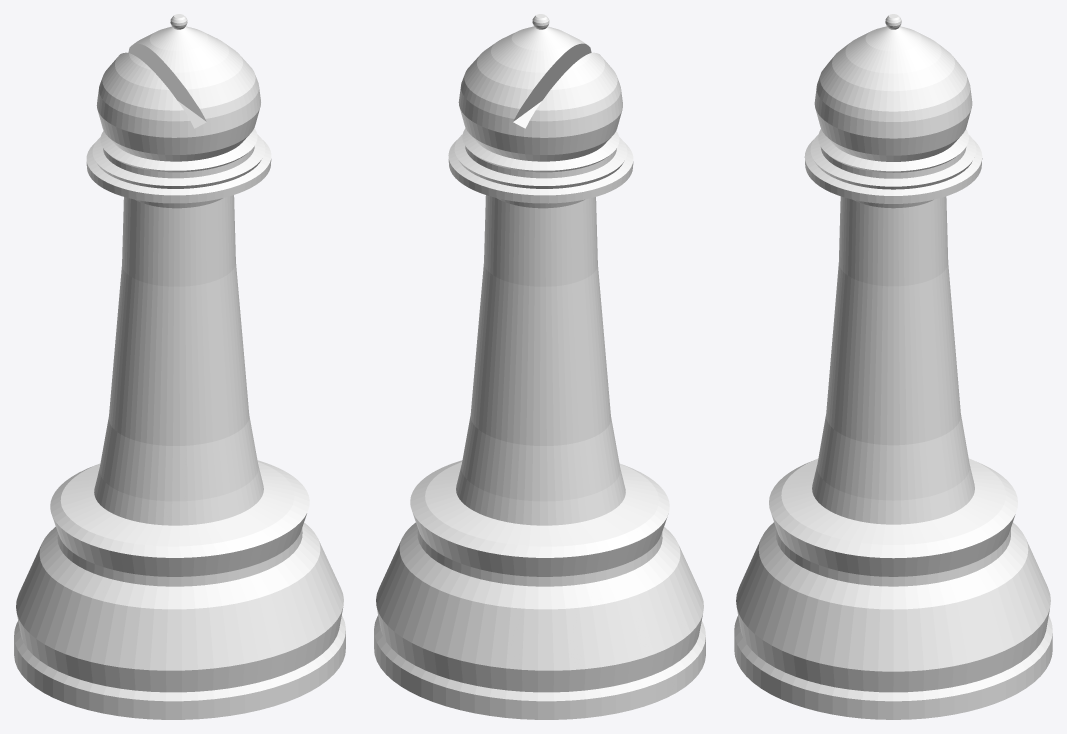
File: BishopW.glb
3 views of the same model, side by side, from view 1: azimuth 30°, elevation 25°; view 2: azimuth 150°, elevation 25°; view 3: azimuth 270°, elevation 25° (orthographic).
Parts seen in each view (by area): view 1: RookA8; view 2: RookA8; view 3: RookA8.
Boxes of the visible parts, box(x1,y1,x2,y2) form: RookA8: box(14, 14, 345, 719); RookA8: box(374, 14, 705, 719); RookA8: box(734, 14, 1052, 719).
Bounding box in the file's own units: 0.8227 × 1.72 × 0.7842.
Materials: 1 (1 with a texture image).
